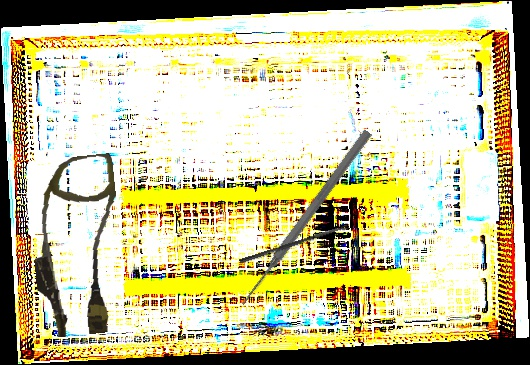Cannula: (23, 152, 131, 340)
Pusher: (237, 127, 374, 309)
Surgical Spoon: (238, 224, 349, 265)
